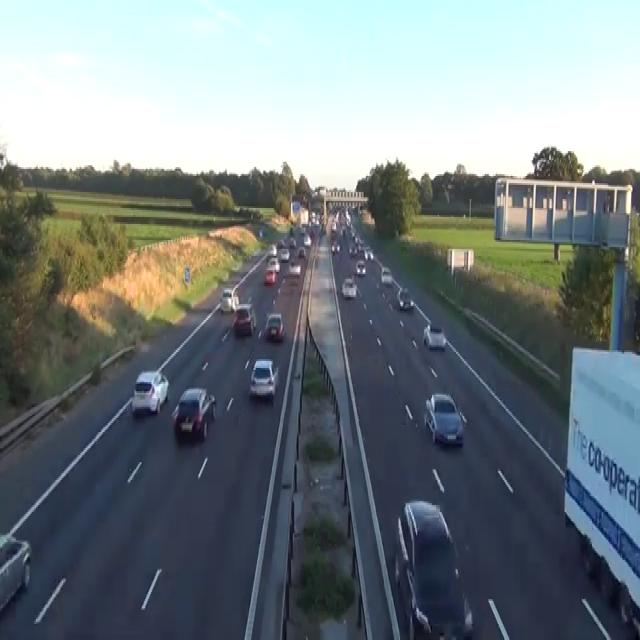Car: (393, 500, 474, 638), (0, 531, 31, 617), (171, 386, 216, 441), (424, 391, 466, 446), (131, 370, 169, 416), (249, 357, 278, 400), (232, 304, 256, 336), (264, 311, 284, 341), (423, 324, 446, 350), (219, 288, 237, 311), (397, 286, 414, 310), (340, 276, 357, 298), (380, 265, 392, 284), (264, 266, 276, 284), (288, 260, 301, 276), (267, 256, 280, 272), (355, 260, 366, 276), (363, 246, 373, 260), (331, 240, 340, 254), (280, 247, 289, 261), (297, 245, 306, 258), (268, 244, 277, 256), (348, 245, 356, 258), (303, 235, 311, 245), (277, 238, 285, 247), (289, 237, 296, 247), (289, 224, 295, 235), (331, 242, 336, 254), (340, 226, 346, 236), (331, 221, 336, 231), (299, 226, 305, 234), (258, 228, 262, 236)
Truck: (563, 345, 639, 638), (289, 199, 300, 224)
